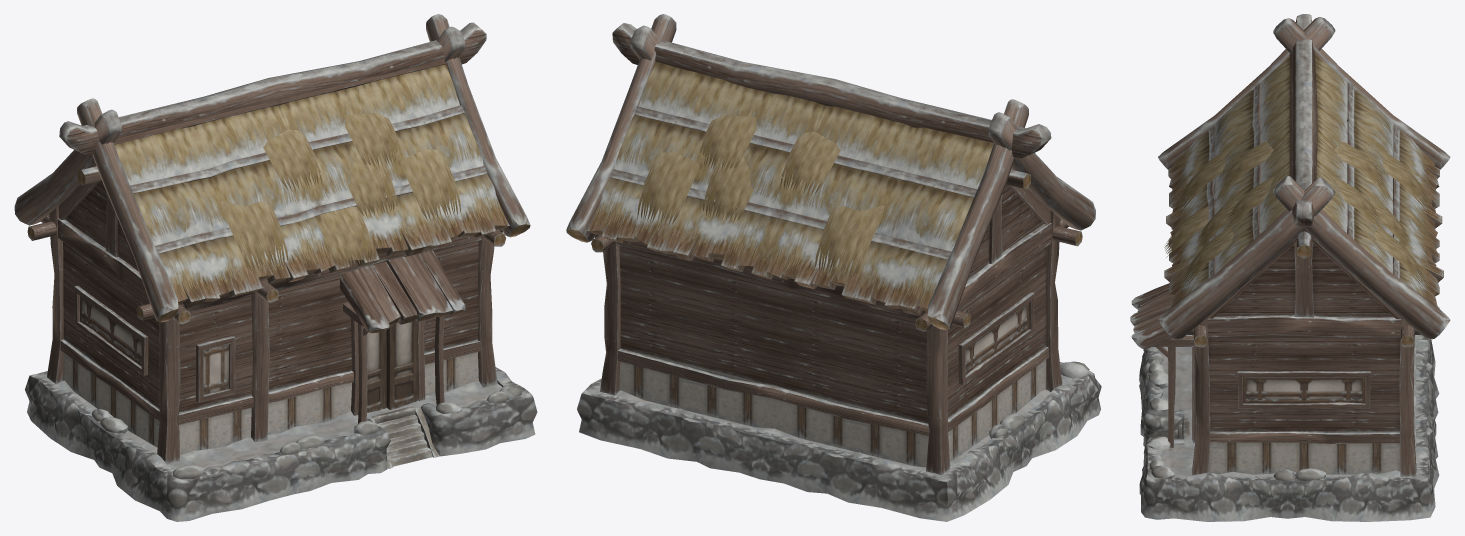
File: snow_b_r02.fbx
The picture shows the model from 3 angles, left to right: view 1: azimuth 30°, elevation 25°; view 2: azimuth 150°, elevation 25°; view 3: azimuth 270°, elevation 25°; orthographic projection. The views are drawn at different scales.
Visible parts, largest first — view 1: snow_b_r02; view 2: snow_b_r02; view 3: snow_b_r02.
Boxes of the visible parts, x1=… form: snow_b_r02: x1=14, y1=14, x2=537, y2=521; snow_b_r02: x1=566, y1=14, x2=1101, y2=521; snow_b_r02: x1=1130, y1=14, x2=1450, y2=521.
Bounding box in the file's own units: 1004 × 801 × 689.
